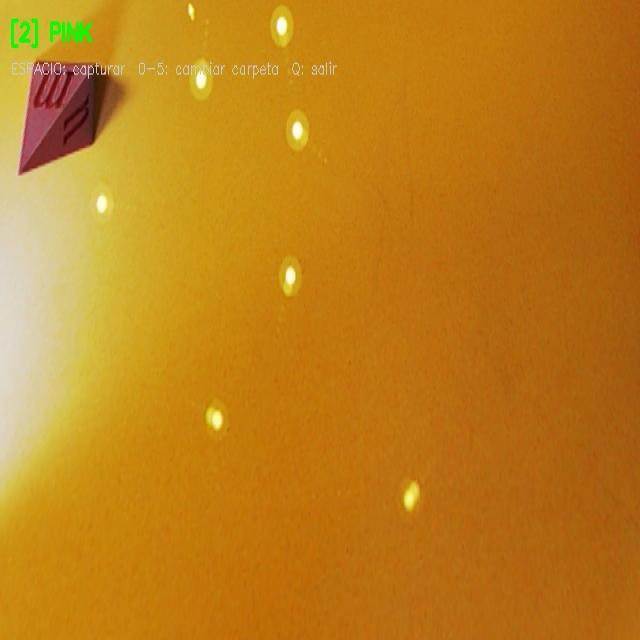pink: (20, 65, 94, 177)
